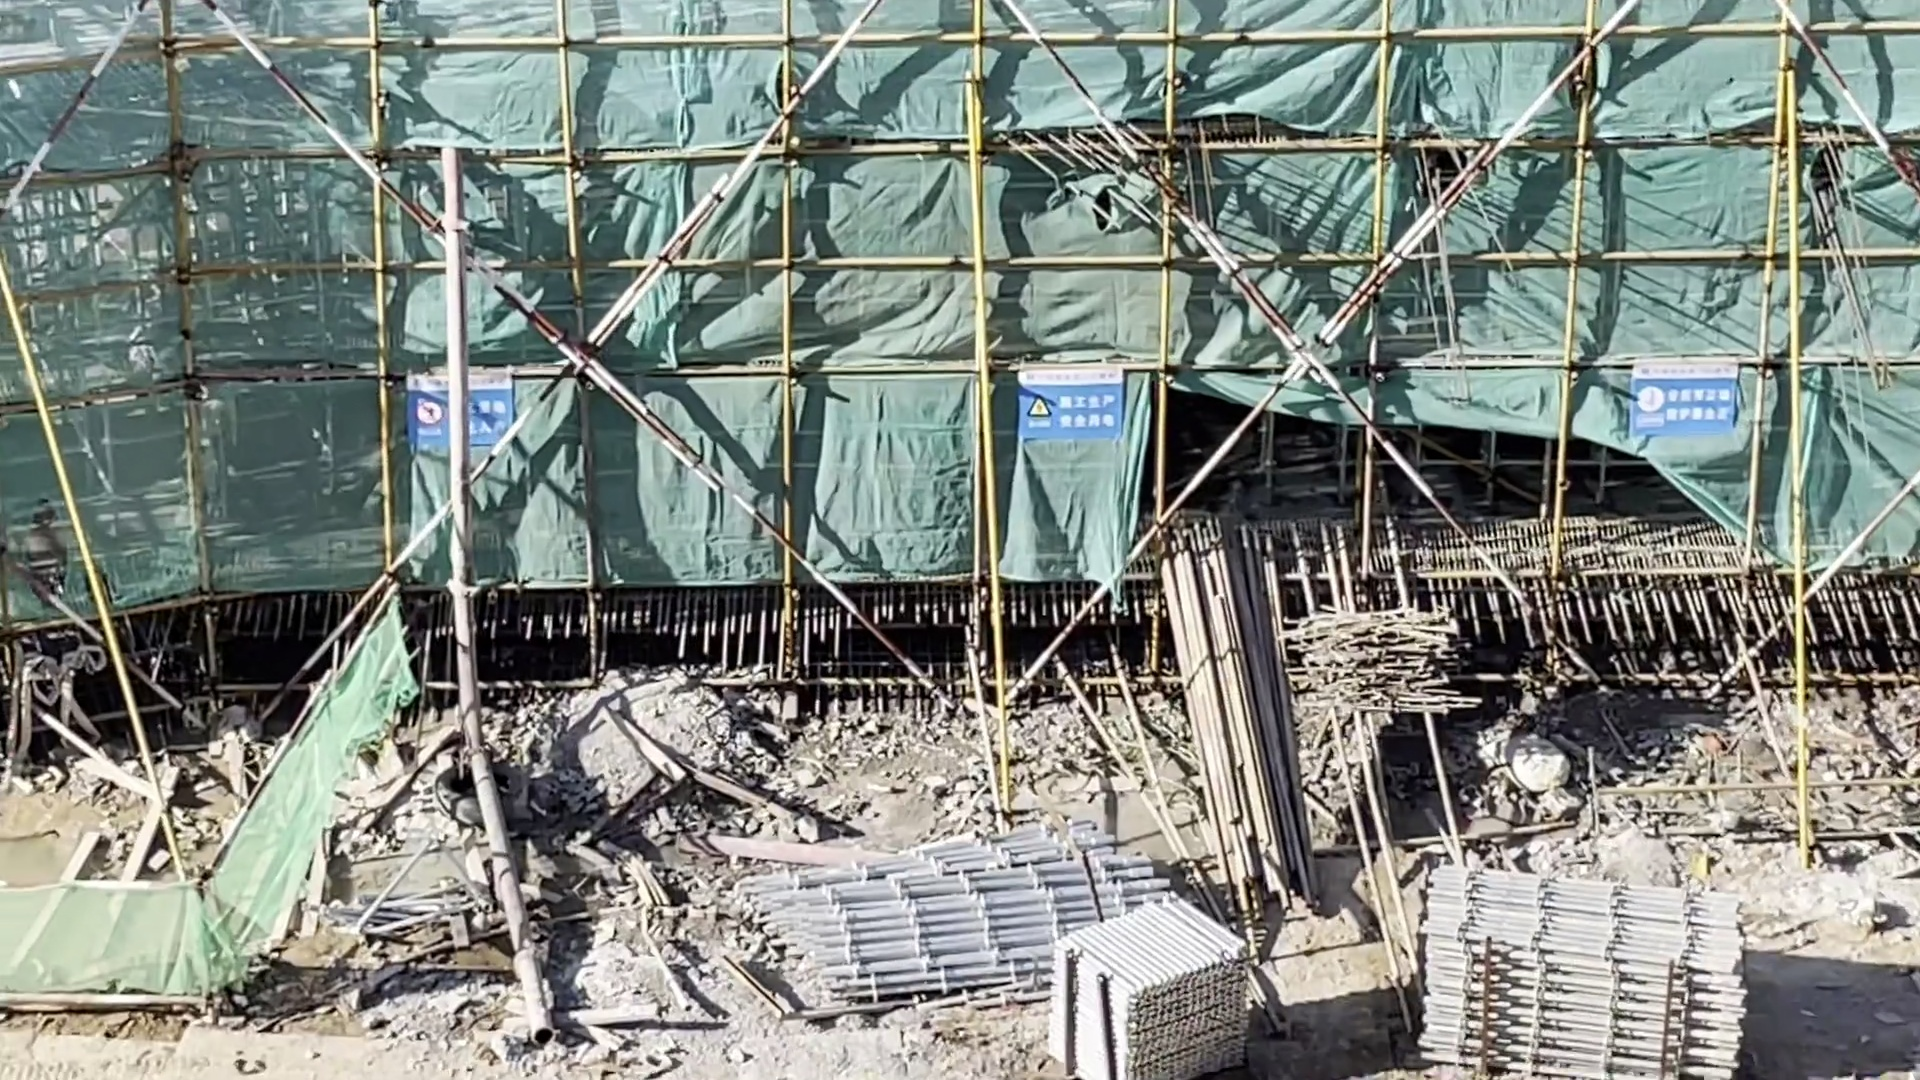scaffold: (738, 825, 1174, 1011), (1422, 858, 1749, 1080), (1023, 887, 1265, 1080)
slogan: (394, 343, 531, 454), (1629, 343, 1745, 448), (1015, 356, 1125, 438)
